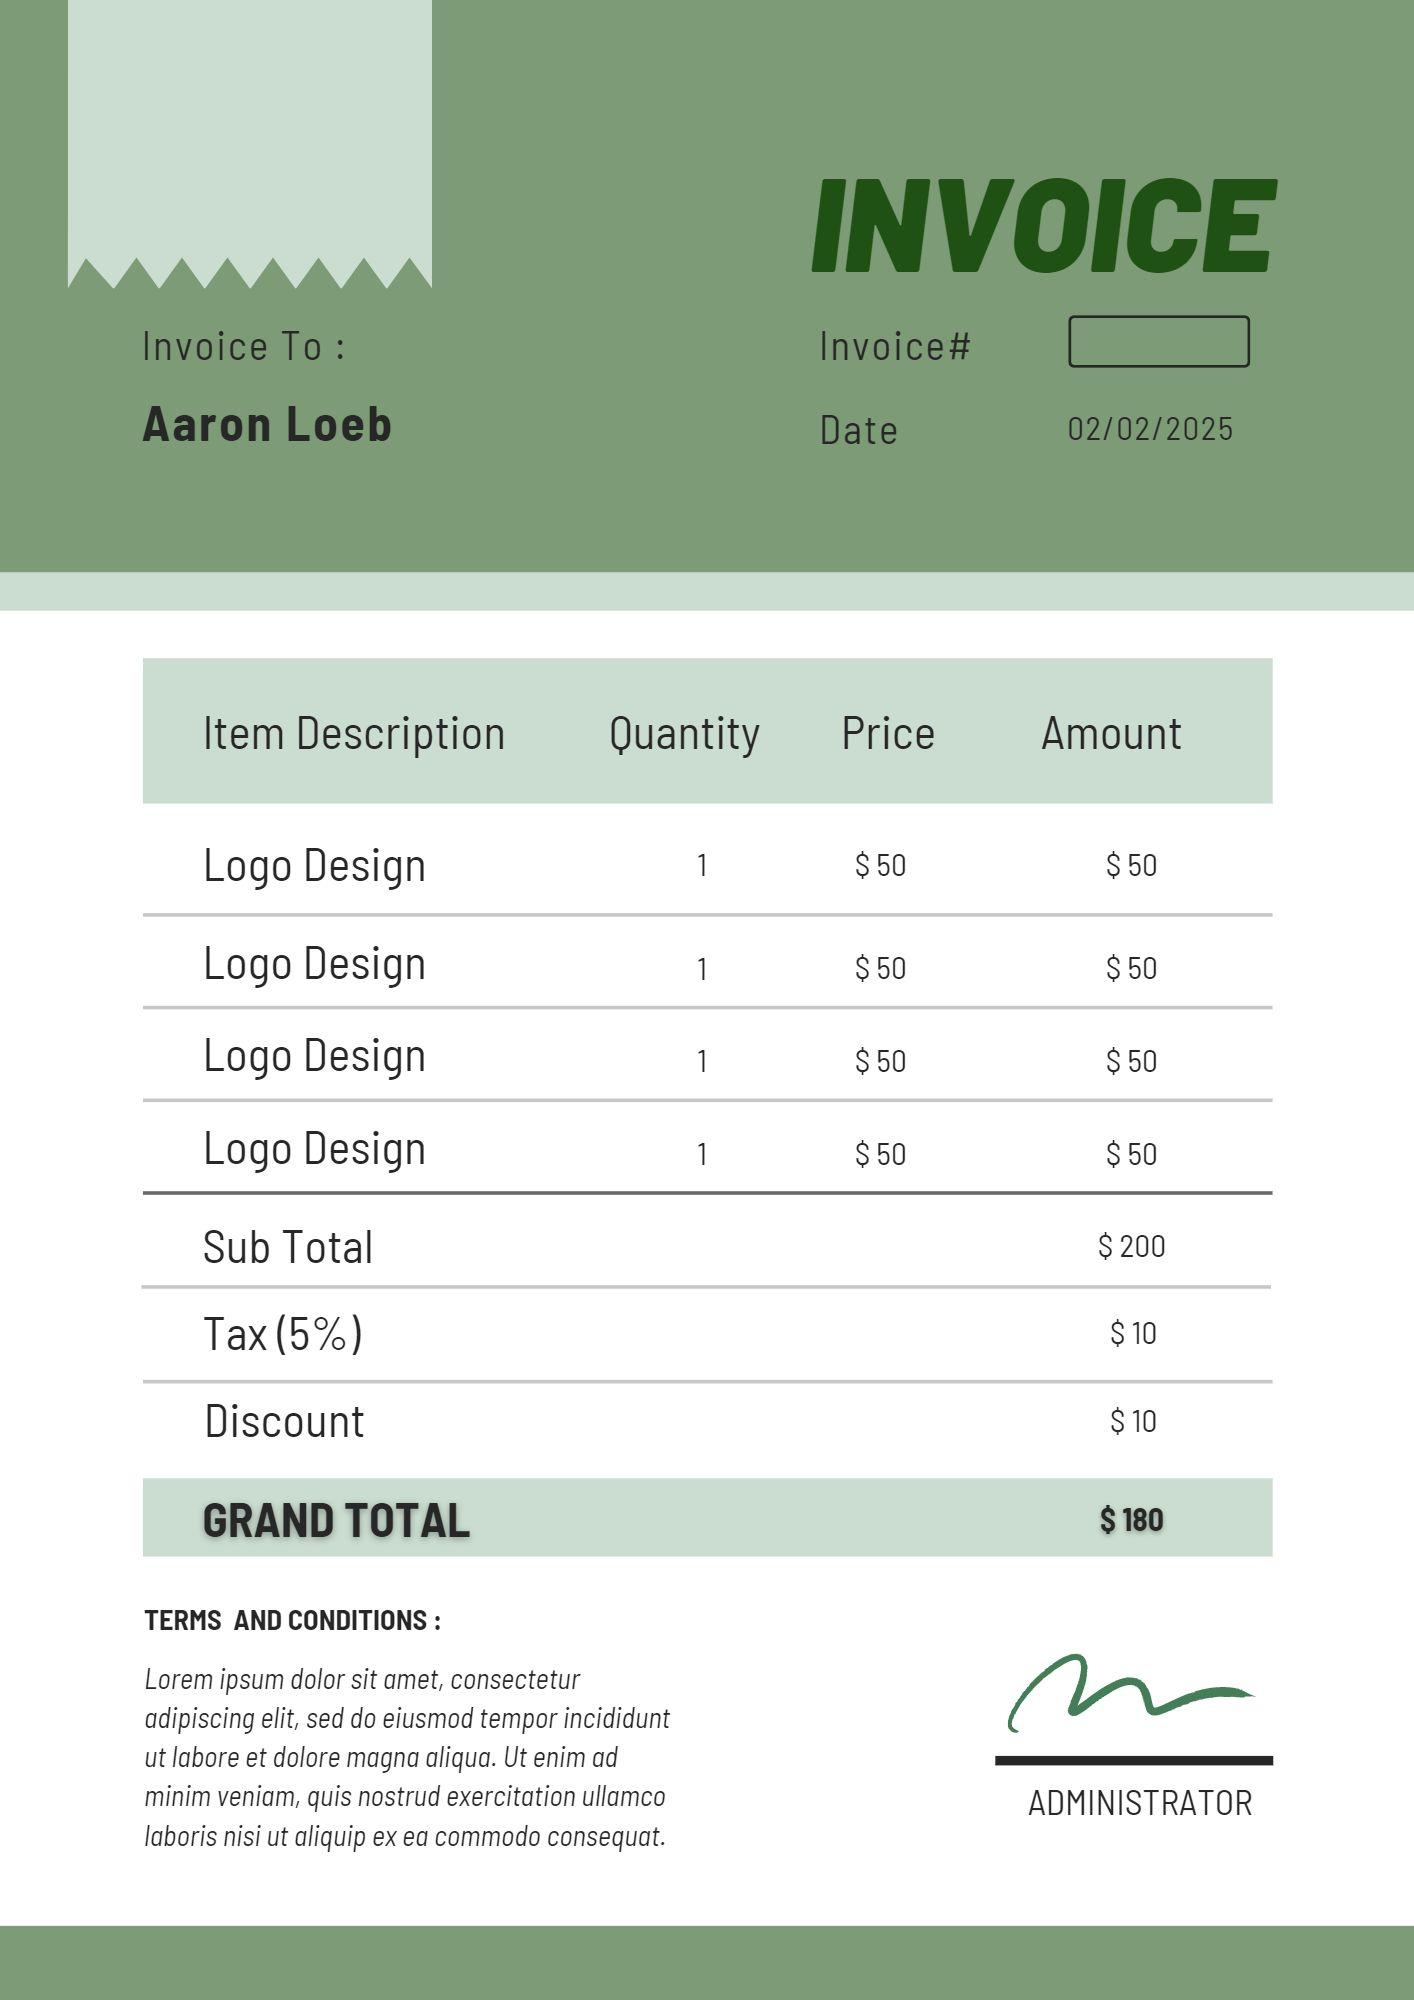ROI: (129, 647, 1290, 1573)
